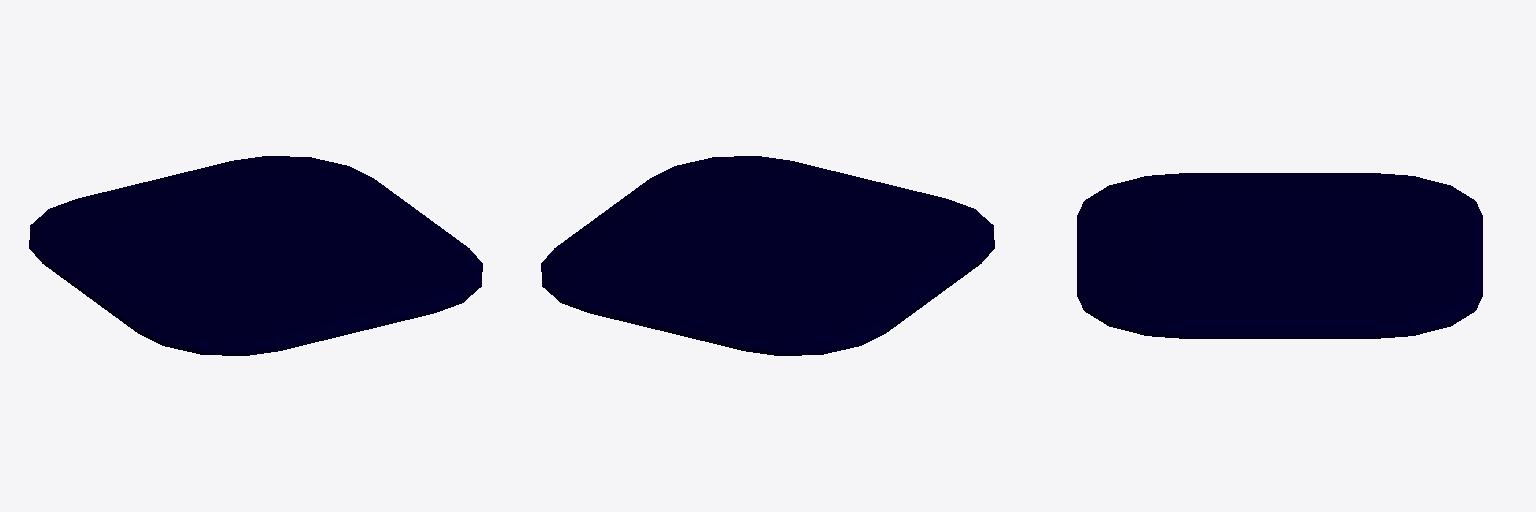
File: Yuan.obj
3 renders of one model, left to right at view 1: azimuth 30°, elevation 25°; view 2: azimuth 150°, elevation 25°; view 3: azimuth 270°, elevation 25°, orthographic.
Parts seen in each view (by area): view 1: Mball; view 2: Mball; view 3: Mball.
Part boxes in pixels (x1,y1,x2,y2): Mball: (29, 156, 482, 355); Mball: (541, 156, 994, 355); Mball: (1077, 173, 1482, 338).
Bounding box in the file's own units: 2.59 × 0.1699 × 2.75.